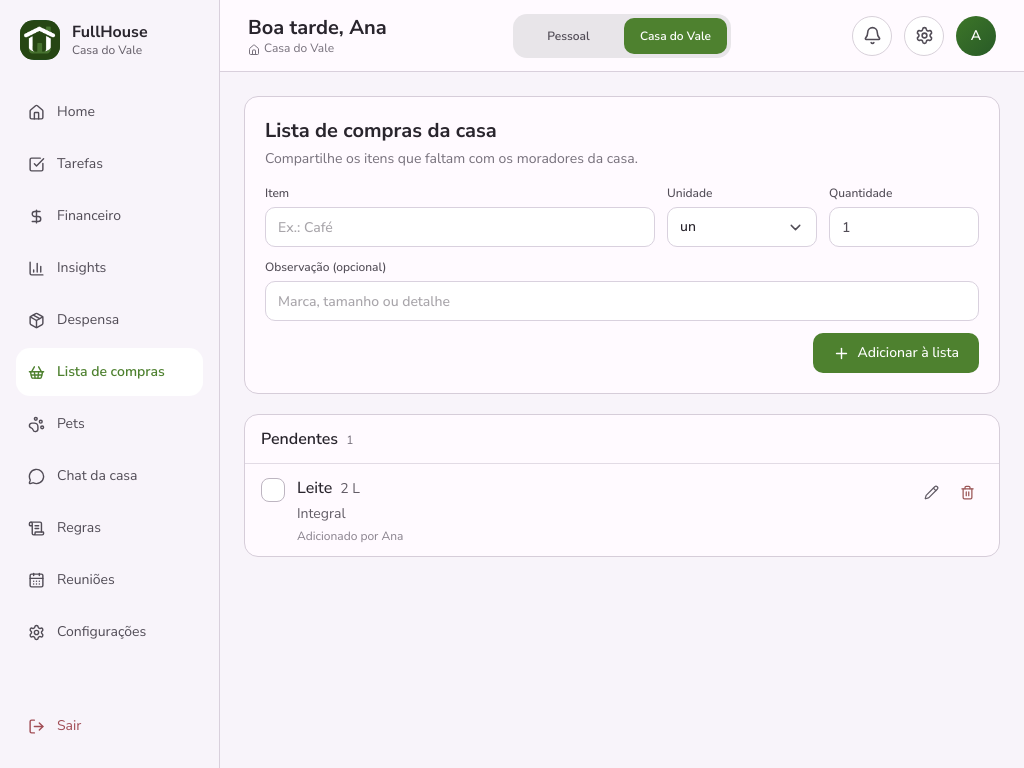
Test: ShoppingListPage › edits an item using its current version
Click the button named "Editar Leite" at x=931, y=492, box [915,476,947,508]
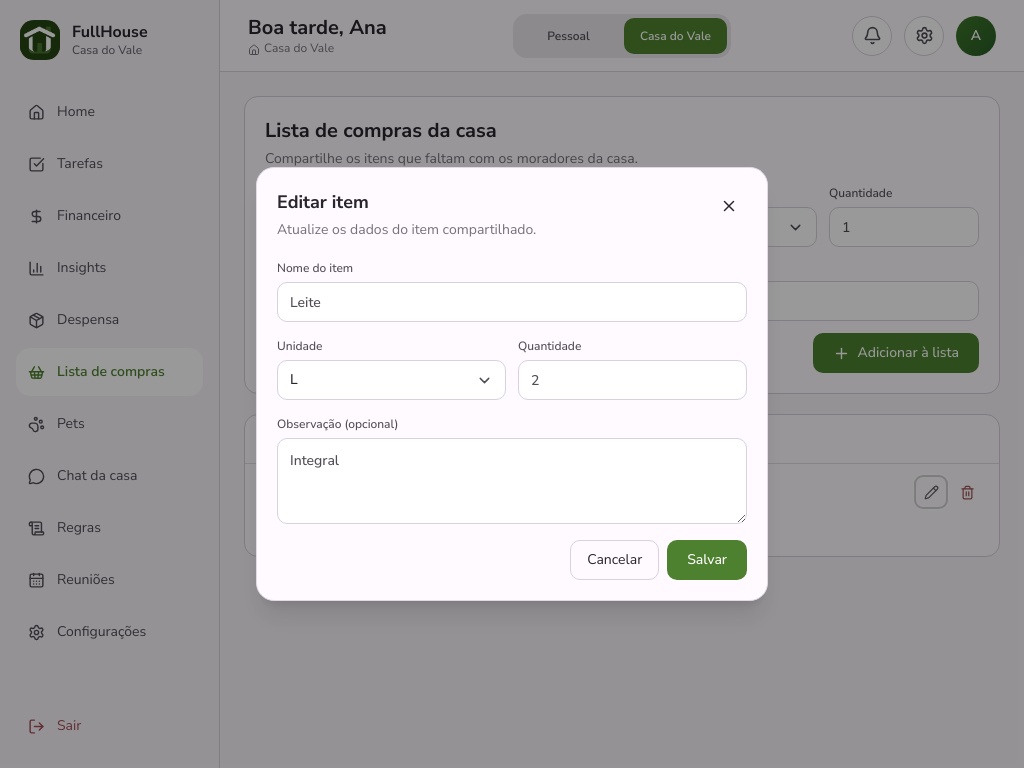
Replace the text in the field labelled "Nome do item" with "Leite sem lactose" at x=512, y=302, box [277,282,747,322]
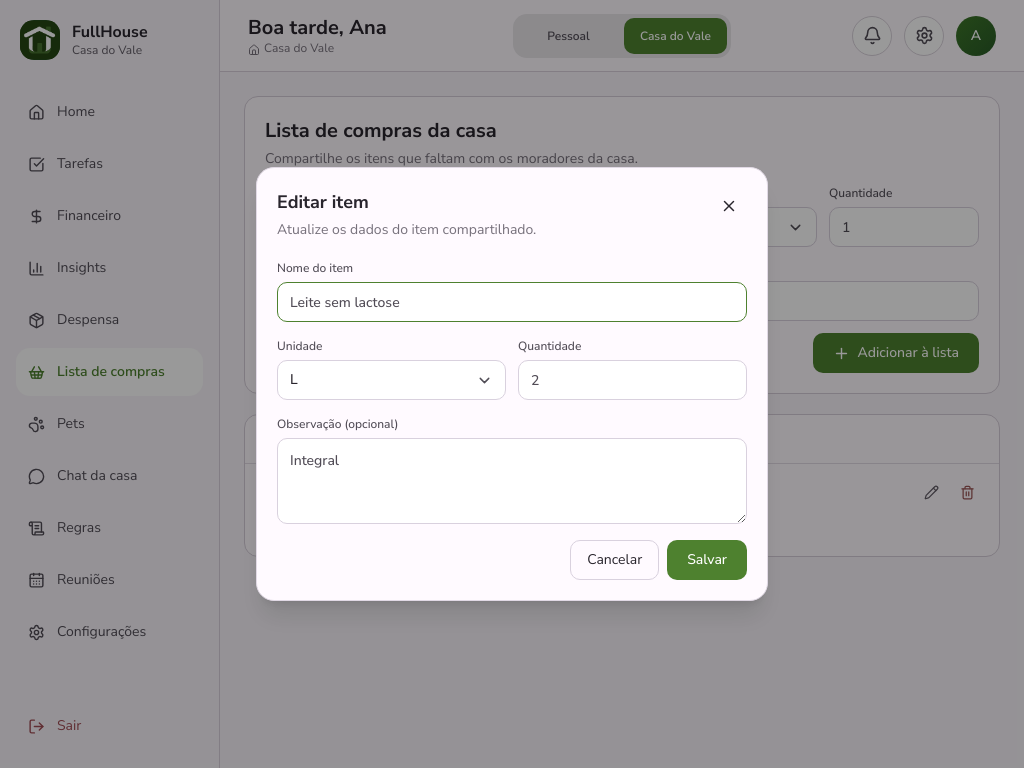
Click the button "Salvar" at x=707, y=560, box [667,540,747,580]
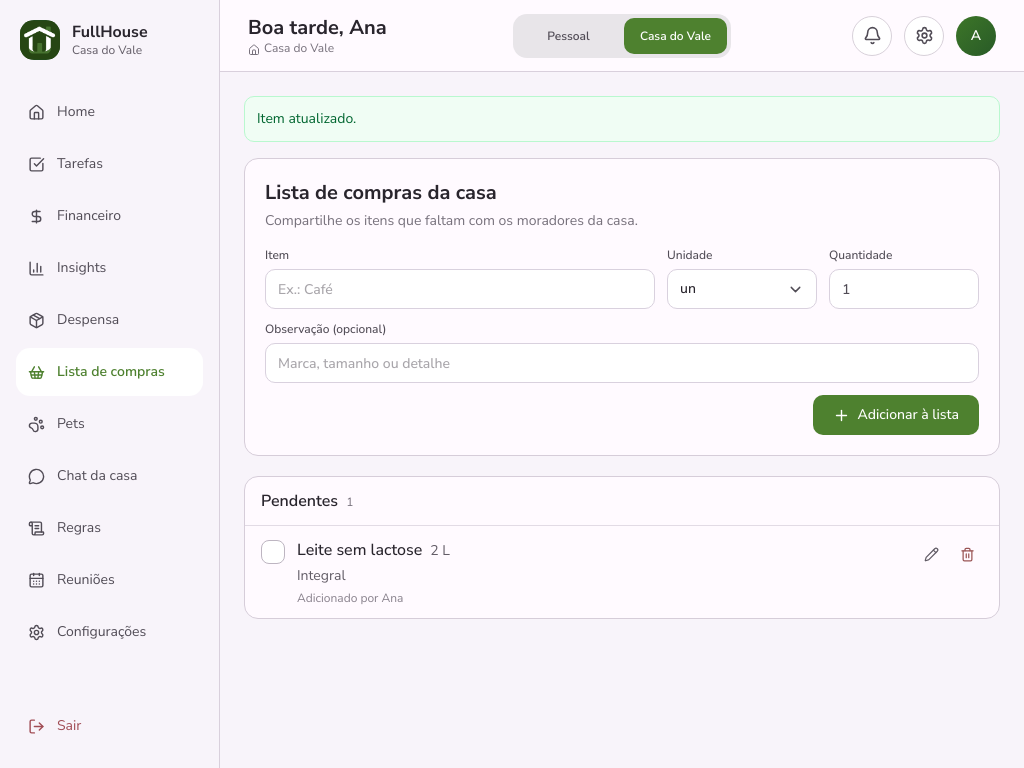
Check: the text "Item atualizado." is shown, box [244,96,1000,142]
Check: the text "Leite sem lactose" is shown, box [297,538,422,562]
